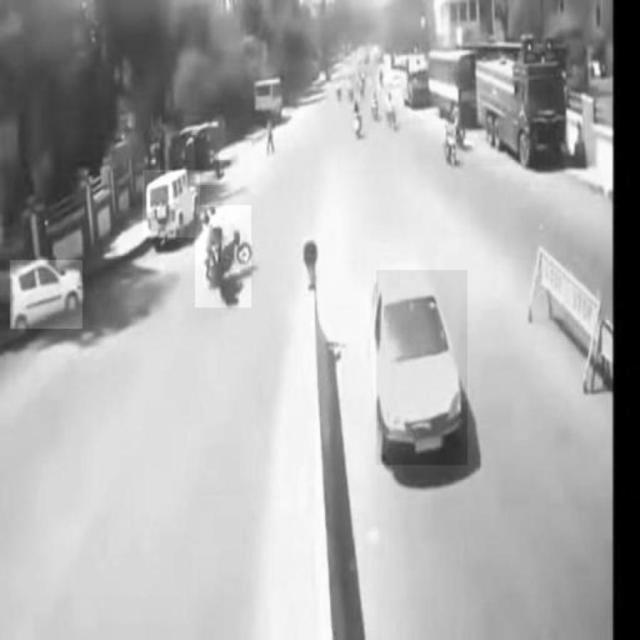accident: (196, 205, 252, 307)
vehicle: (376, 270, 467, 465), (471, 54, 564, 166), (10, 260, 83, 328), (143, 171, 200, 238)
